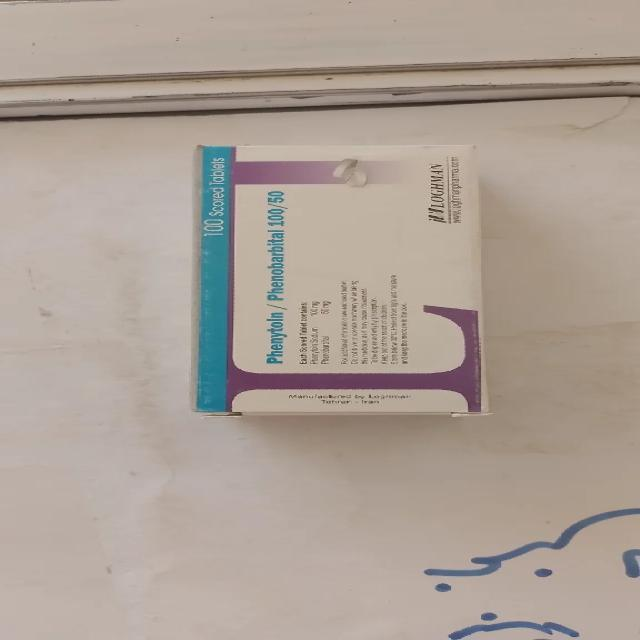drug-name: (260, 185, 290, 367)
